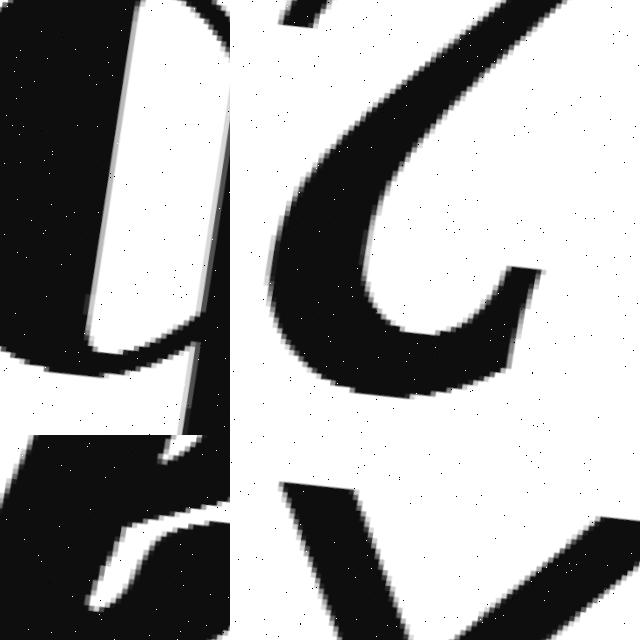2: (230, 0, 637, 435)
A: (0, 435, 230, 640)
X: (230, 443, 640, 640)
